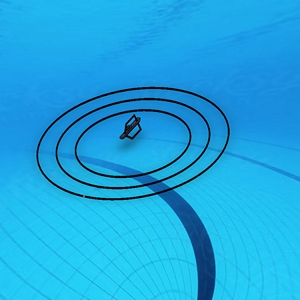circle: (33, 79, 232, 206)
submarine: (116, 115, 143, 137)
